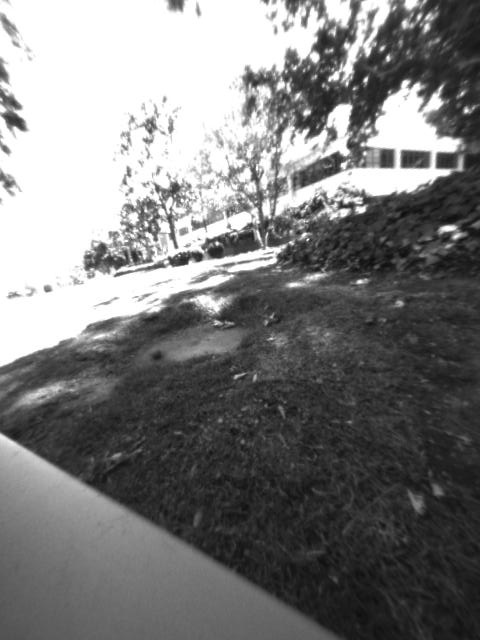dogtoy: (143, 340, 171, 364)
